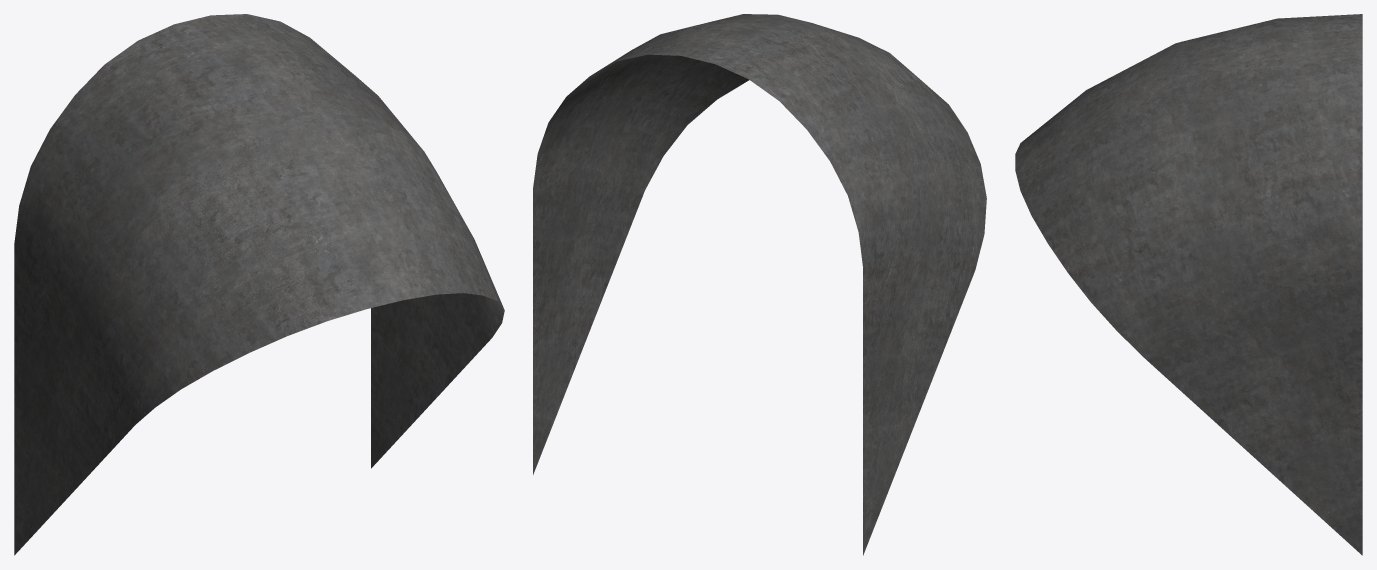
File: small_tunnel_TopIntersection.fbx
3 views of the same model, side by side, from view 1: azimuth 30°, elevation 25°; view 2: azimuth 150°, elevation 25°; view 3: azimuth 270°, elevation 25° (orthographic). The views are drawn at different scales.
Visible parts, largest first — view 1: small_tunnel_TopIntersection; view 2: small_tunnel_TopIntersection; view 3: small_tunnel_TopIntersection.
Part boxes in pixels (x1=…): small_tunnel_TopIntersection: x1=14, y1=14, x2=504, y2=555; small_tunnel_TopIntersection: x1=533, y1=14, x2=986, y2=555; small_tunnel_TopIntersection: x1=1015, y1=14, x2=1362, y2=555.
Size of the model in its own units: 17.54 by 23.13 by 16.36.
1 material, 1 textured.
